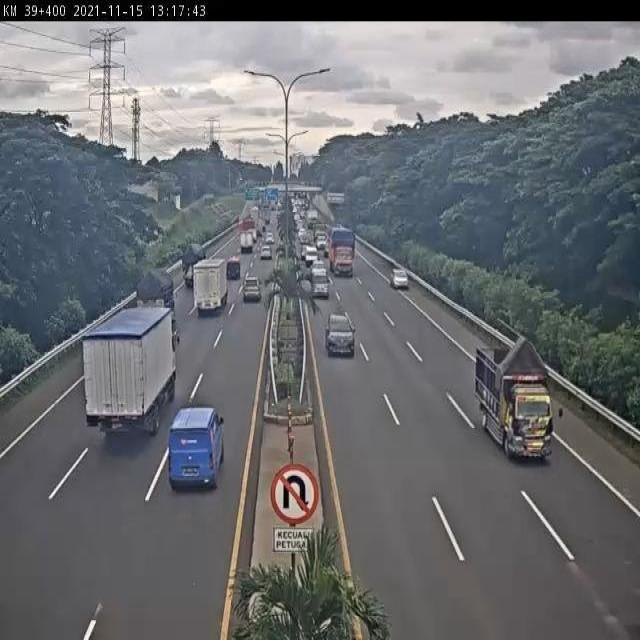Car: (324, 311, 358, 359), (180, 240, 206, 286), (311, 267, 329, 299), (242, 276, 262, 302), (390, 268, 409, 290), (226, 256, 242, 280), (311, 260, 327, 280), (304, 245, 318, 266), (260, 244, 272, 260), (316, 234, 327, 251), (266, 232, 274, 245)
Truck: (81, 308, 176, 439), (473, 337, 559, 460), (194, 259, 227, 310), (328, 228, 355, 277)
Van: (167, 406, 224, 489)
